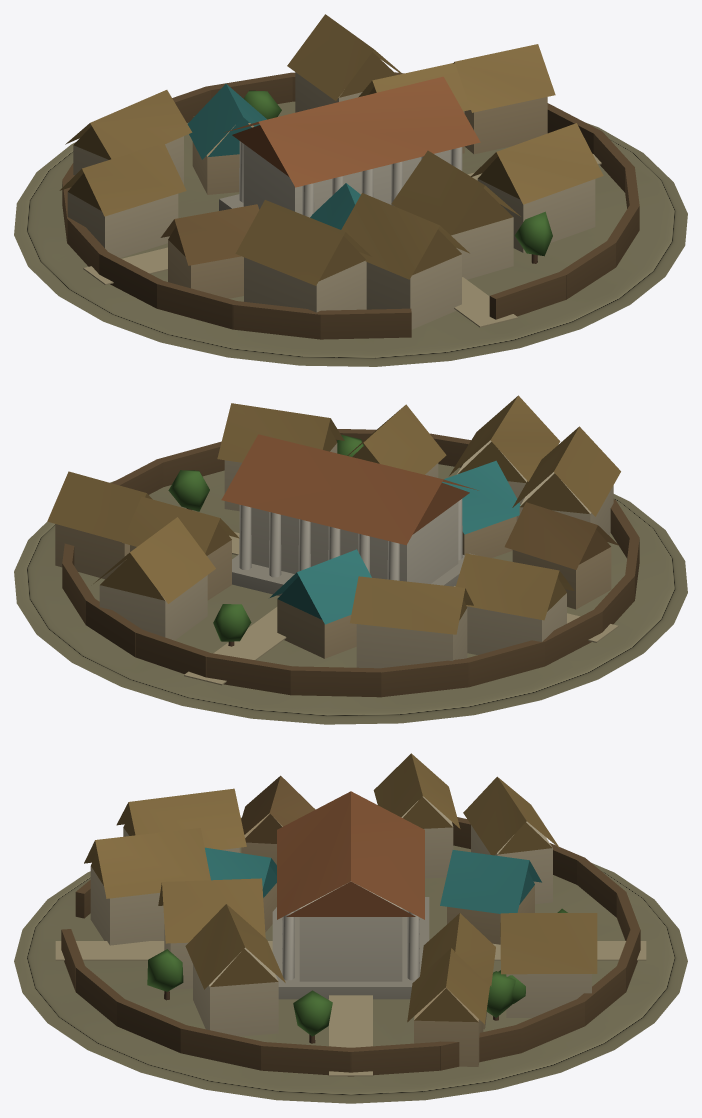
Rendered from settlement_0_1.glb.
3 renders of one model, top to bottom at view 1: azimuth 30°, elevation 25°; view 2: azimuth 150°, elevation 25°; view 3: azimuth 270°, elevation 25°, orthographic.
Parts seen in each view (by area): view 1: part_0; view 2: part_0; view 3: part_0.
Part boxes in pixels (box(x1,y1,x2,y2)): part_0: box(14, 14, 687, 366); part_0: box(14, 395, 687, 724); part_0: box(14, 753, 687, 1103).
Size of the model in its own units: 30.8 by 6.31 by 30.8.
